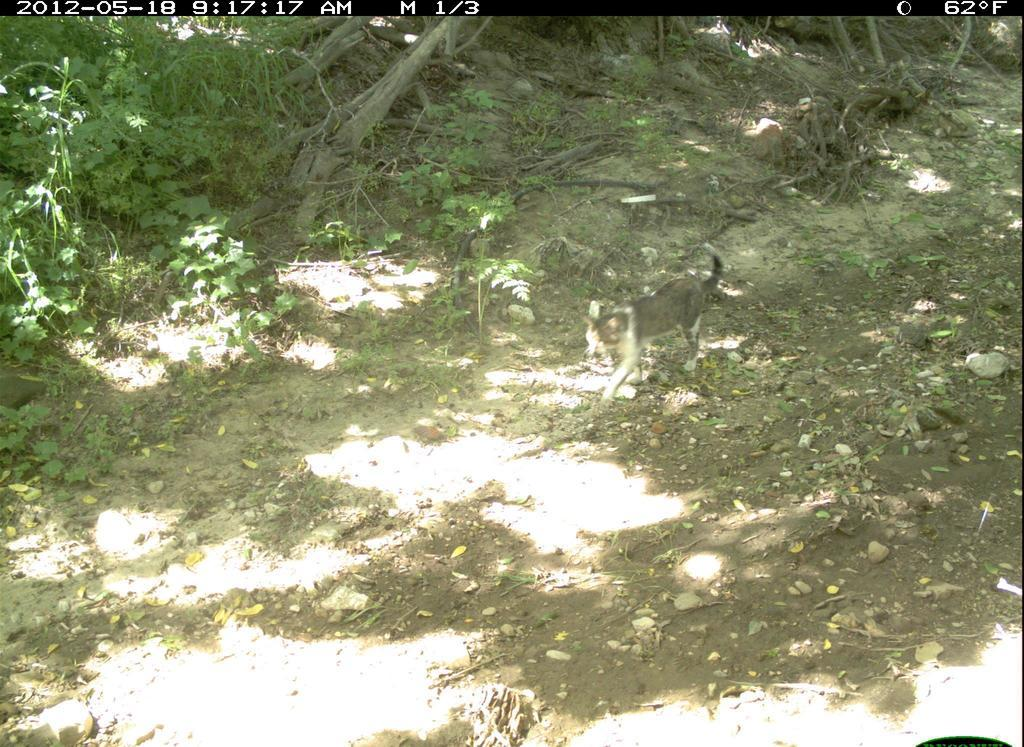cat: (583, 241, 738, 411)
